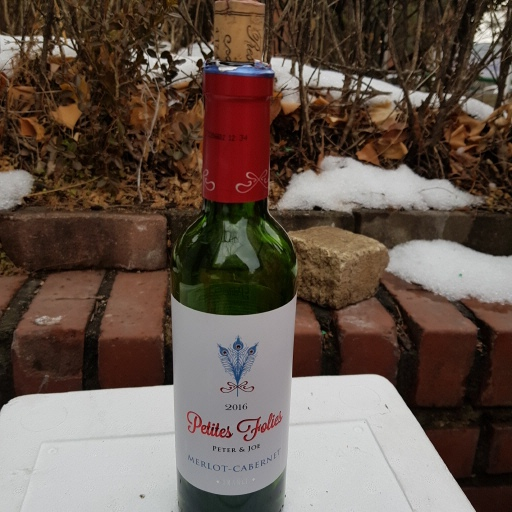Glass_2: (168, 1, 298, 512)
